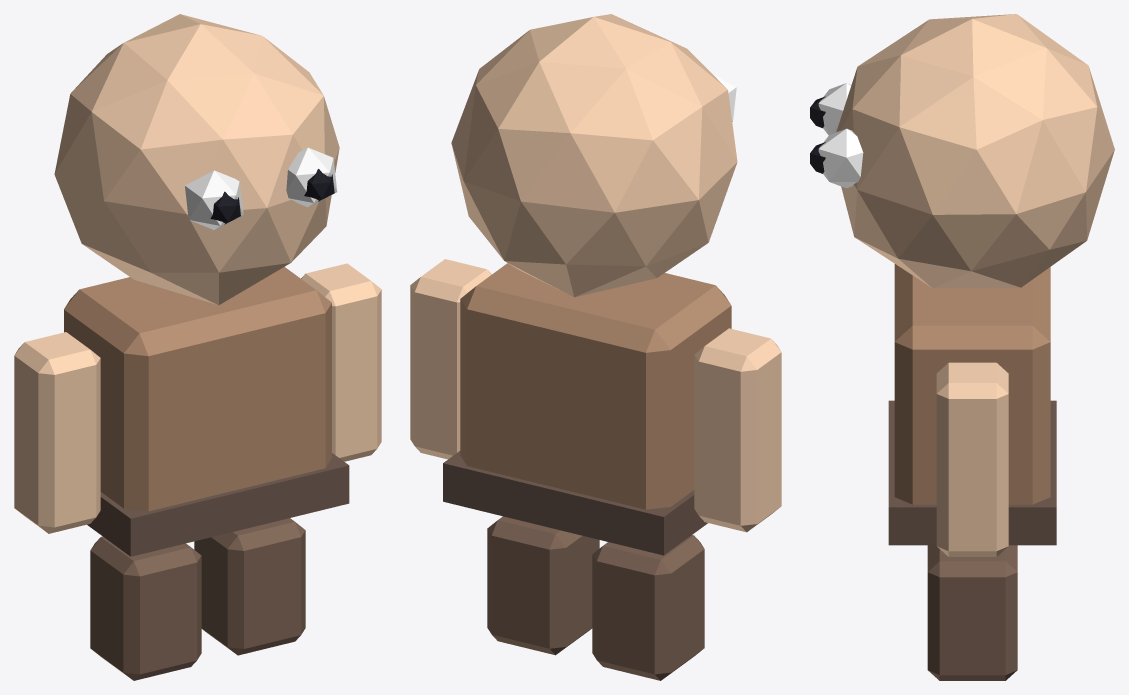
The model's file is StarvedPirate.fbx.
3 renders of one model, left to right at view 1: azimuth 30°, elevation 25°; view 2: azimuth 150°, elevation 25°; view 3: azimuth 270°, elevation 25°, orthographic.
Parts seen in each view (by area): view 1: StarvedPirate; view 2: StarvedPirate; view 3: StarvedPirate.
Boxes of the visible parts, box(x1,y1,x2,y2) form: StarvedPirate: box(14, 14, 381, 680); StarvedPirate: box(410, 14, 781, 680); StarvedPirate: box(810, 14, 1114, 680).
Bounding box in the file's own units: 3.13 × 5.45 × 2.41.
Materials: 1 (1 with a texture image).
